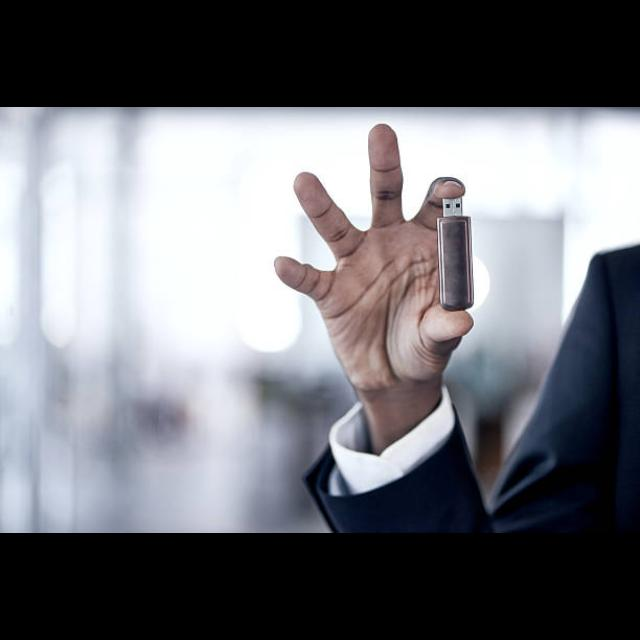USB-Flash-Drive: (436, 197, 475, 313)
